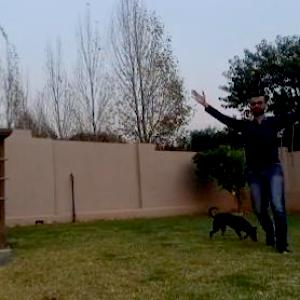takeoff: (186, 86, 299, 261)
